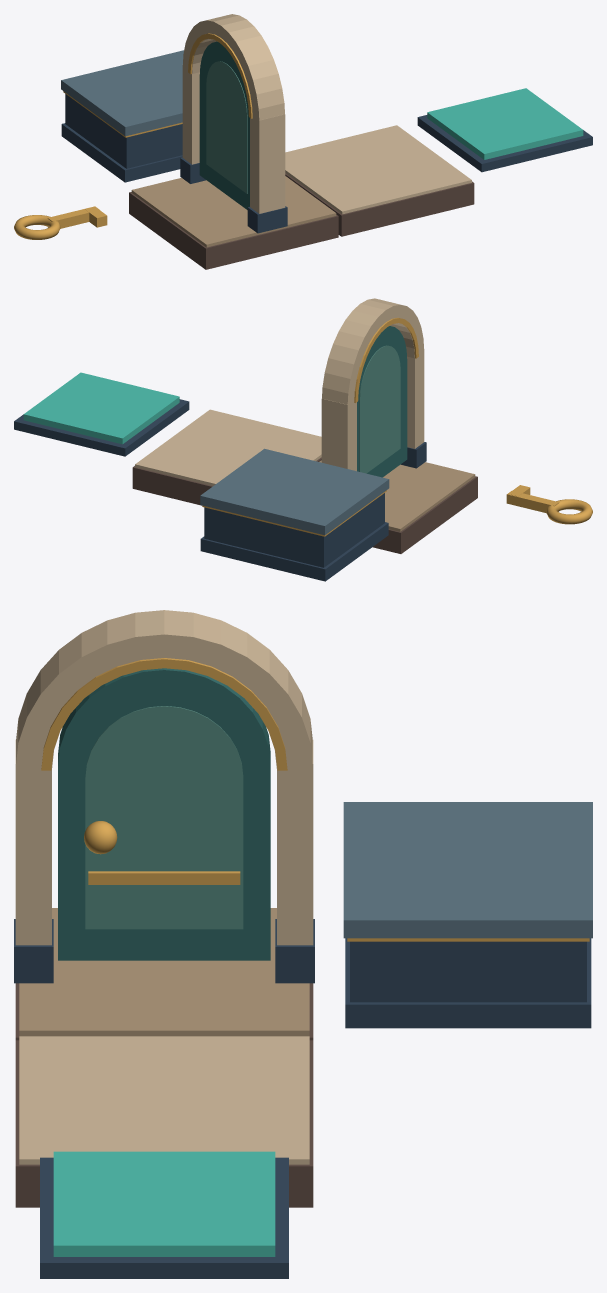
File: gallery-kit.glb
3 views of the same model, one above another, from view 1: azimuth 30°, elevation 25°; view 2: azimuth 150°, elevation 25°; view 3: azimuth 270°, elevation 25° (orthographic). The views are drawn at different scales.
Visible parts, largest first — view 1: Carved limestone tile.001, Stone cornice, Exit tile, Carved limestone tile, Terracotta edge, Stone arch, Raised inner panel, Cutaway wall, Arch upright, Terracotta edge.001, Rounded enamel door, Exit plinth (+7 smaller); view 2: Stone cornice, Carved limestone tile.001, Exit tile, Cutaway wall, Stone arch, Raised inner panel, Carved limestone tile, Wall foot, Arch upright.001, Exit plinth, Rounded enamel door, Terracotta edge (+6 smaller); view 3: Carved limestone tile.001, Stone cornice, Raised inner panel, Rounded enamel door, Exit tile, Carved limestone tile, Stone arch, Cutaway wall, Exit plinth, Wall foot, Arch upright.001, Arch upright (+7 smaller).
Boxes of the visible parts, x1,y1,x2,y2 form: Carved limestone tile.001: [285, 125, 471, 214]; Stone cornice: [61, 50, 183, 136]; Exit tile: [427, 88, 583, 159]; Carved limestone tile: [131, 176, 336, 247]; Terracotta edge: [129, 192, 338, 269]; Stone arch: [183, 14, 284, 122]; Raised inner panel: [206, 61, 247, 193]; Cutaway wall: [65, 94, 182, 168]; Arch upright: [250, 114, 285, 213]; Terracotta edge.001: [285, 173, 474, 236]; Rounded enamel door: [199, 41, 249, 209]; Exit plinth: [417, 115, 592, 172]; Stone cornice: [200, 448, 389, 535]; Carved limestone tile.001: [135, 409, 321, 485]; Exit tile: [23, 372, 179, 444]; Cutaway wall: [204, 493, 384, 567]; Stone arch: [322, 298, 423, 407]; Raised inner panel: [359, 345, 400, 473]; Carved limestone tile: [319, 460, 475, 531]; Wall foot: [200, 522, 388, 581]; Arch upright.001: [321, 398, 356, 471]; Exit plinth: [14, 399, 189, 456]; Rounded enamel door: [357, 326, 407, 477]; Terracotta edge: [372, 476, 477, 553]; Carved limestone tile.001: [19, 1036, 309, 1164]; Stone cornice: [343, 802, 592, 938]; Raised inner panel: [85, 706, 243, 929]; Rounded enamel door: [58, 668, 270, 960]; Exit tile: [53, 1151, 275, 1256]; Carved limestone tile: [19, 908, 309, 1036]; Stone arch: [15, 610, 313, 769]; Cutaway wall: [350, 941, 586, 1002]; Exit plinth: [40, 1157, 288, 1278]; Wall foot: [345, 938, 591, 1028]; Arch upright.001: [277, 740, 313, 945]; Arch upright: [15, 740, 51, 945].
Size of the model in its own units: 4.01 by 1.43 by 1.91.
